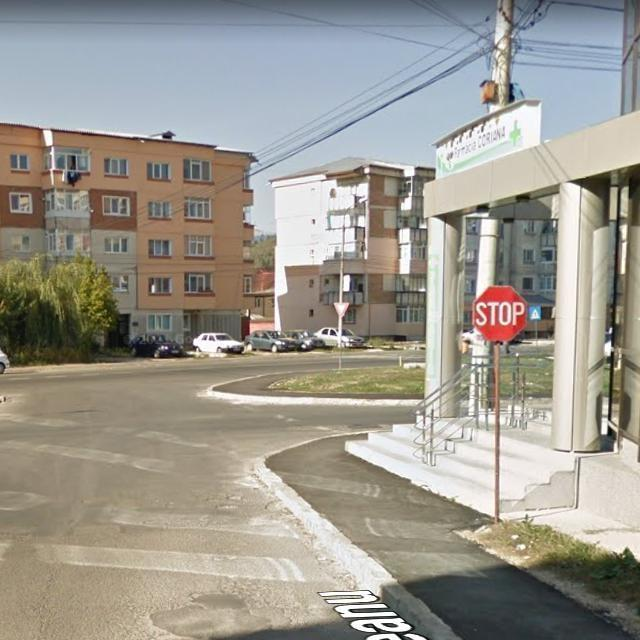prio_stop: (470, 284, 525, 342)
